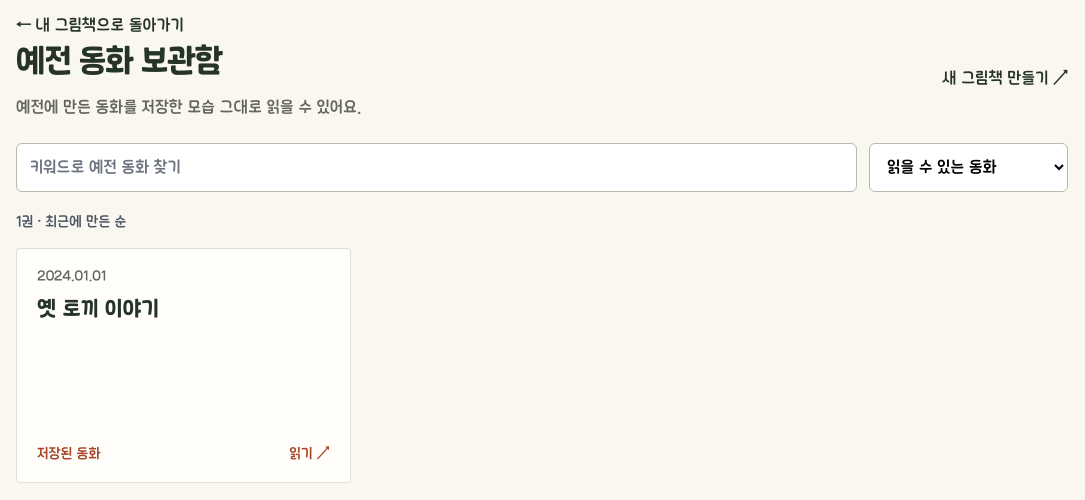
beta picturebook shelf and preserved stories › shows original readable stories in the archive and lets users inspect empty records
Expected: the heading "옛 토끼 이야기" is shown, [37, 297, 159, 321]
Expected: the text "빈 기록" is not shown
Select "내용 확인이 필요한 기록" in the dropdown at [968, 167], box [869, 143, 1068, 192]
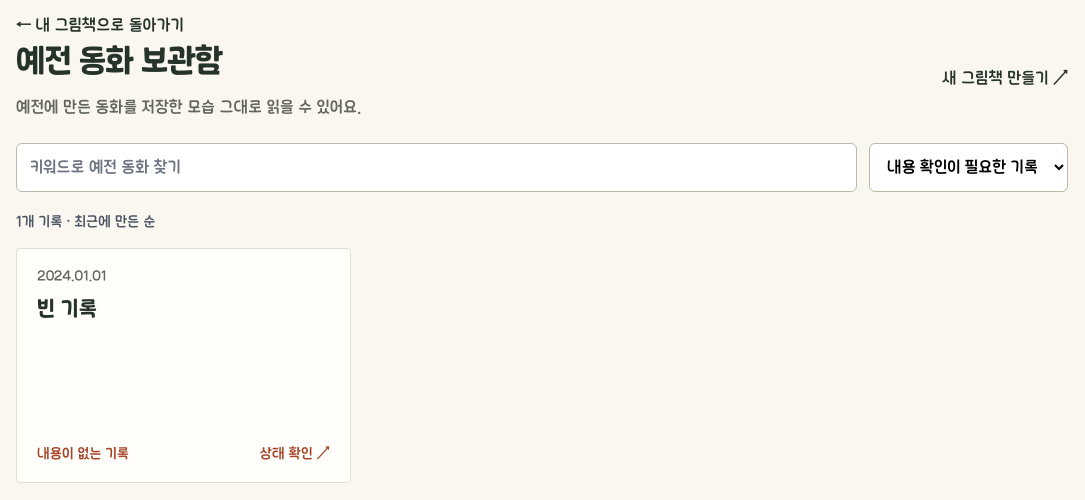
Result: the heading "빈 기록" is shown at [37, 297, 97, 321]
Result: the text "내용이 없는 기록" is shown at [37, 446, 129, 462]
